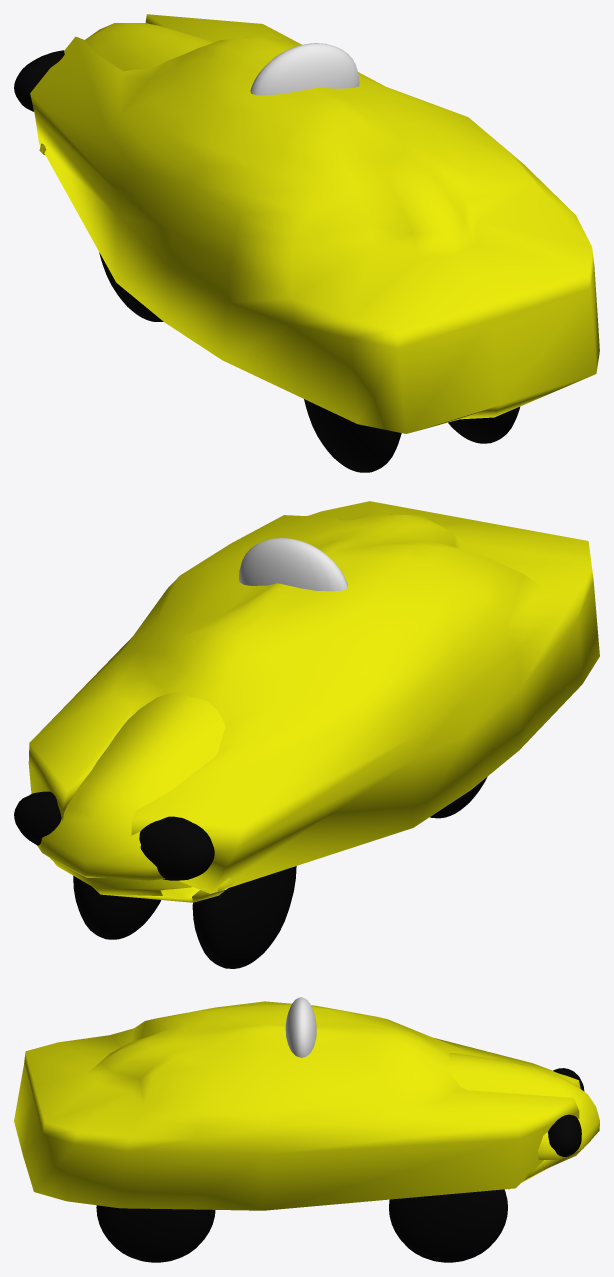
Rendered from NYCcab.fbx.
The picture shows the model from 3 angles, top to bottom: view 1: azimuth 30°, elevation 25°; view 2: azimuth 150°, elevation 25°; view 3: azimuth 270°, elevation 25°; orthographic projection. The views are drawn at different scales.
Parts seen in each view (by area): view 1: polySurface1, pSphere7, pSphere2, pSphere4, pSphere9, pSphere1; view 2: polySurface1, pSphere1, pSphere7, pSphere9, pSphere3, pSphere8; view 3: polySurface1, pSphere3, pSphere4, pSphere7, pSphere8.
Boxes of the visible parts, left/top/right/bottom form: polySurface1: left=30, top=14, right=599, bottom=433; pSphere7: left=250, top=43, right=359, bottom=95; pSphere2: left=304, top=399, right=401, bottom=472; pSphere4: left=448, top=406, right=519, bottom=443; pSphere9: left=14, top=50, right=64, bottom=111; pSphere1: left=99, top=252, right=163, bottom=321; polySurface1: left=28, top=501, right=599, bottom=902; pSphere1: left=192, top=866, right=296, bottom=968; pSphere7: left=239, top=538, right=347, bottom=591; pSphere9: left=139, top=816, right=214, bottom=880; pSphere3: left=73, top=876, right=161, bottom=939; pSphere8: left=14, top=791, right=61, bottom=845; polySurface1: left=14, top=1001, right=599, bottom=1210; pSphere3: left=389, top=1189, right=507, bottom=1262; pSphere4: left=96, top=1205, right=215, bottom=1262; pSphere7: left=285, top=997, right=316, bottom=1057; pSphere8: left=548, top=1114, right=581, bottom=1156.
Size of the model in its own units: 6.96 by 7.01 by 15.71.
